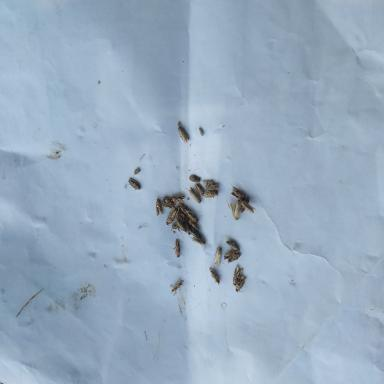pbw: (226, 199, 240, 222), (213, 246, 226, 267), (230, 183, 246, 200), (188, 236, 207, 250), (166, 206, 179, 226), (185, 187, 201, 203), (184, 209, 202, 223), (152, 196, 164, 216), (208, 268, 222, 284), (233, 265, 243, 286), (171, 280, 184, 296), (172, 238, 182, 258), (178, 126, 189, 144), (226, 238, 240, 252), (204, 189, 219, 202), (185, 225, 200, 238), (240, 201, 256, 213), (174, 216, 186, 232), (224, 247, 238, 260), (236, 274, 246, 292), (127, 178, 141, 190), (228, 252, 242, 264), (168, 195, 186, 203), (177, 202, 189, 214), (194, 182, 204, 196), (161, 200, 173, 210), (206, 183, 219, 191), (235, 200, 241, 217), (202, 180, 213, 188), (186, 219, 191, 236), (171, 223, 181, 230)
